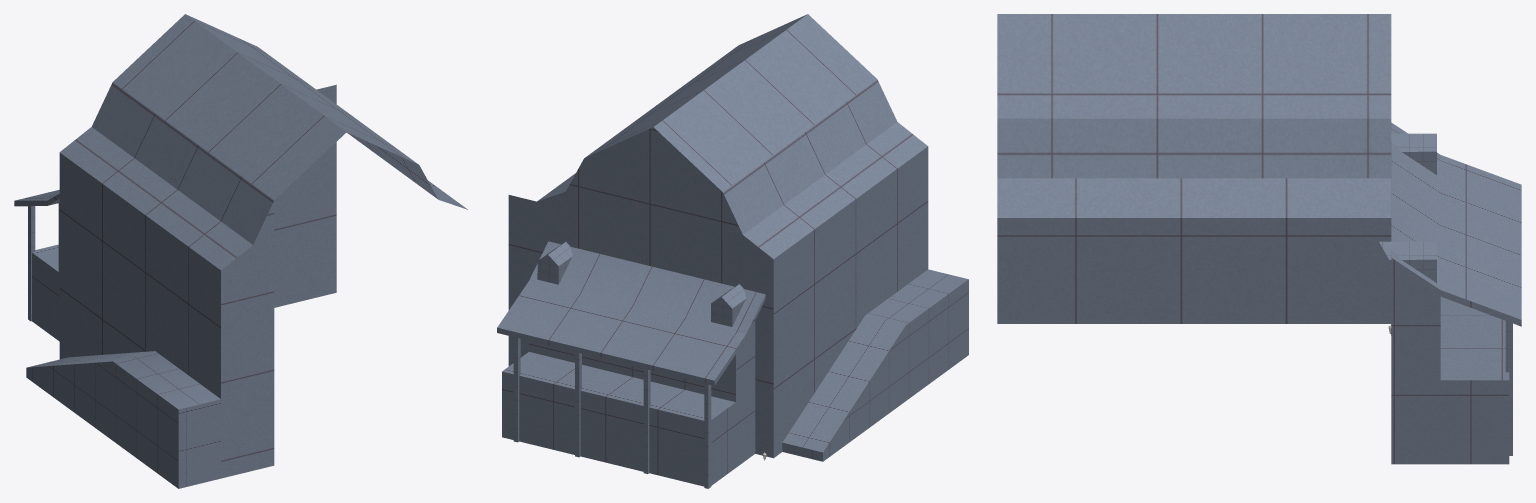
The model's file is Mansion01.fbx.
3 renders of one model, left to right at view 1: azimuth 30°, elevation 25°; view 2: azimuth 150°, elevation 25°; view 3: azimuth 270°, elevation 25°, orthographic. The views are drawn at different scales.
Parts seen in each view (by area): view 1: Mansion01; view 2: Mansion01; view 3: Mansion01.
Boxes of the visible parts, x1,y1,x2,y2 form: Mansion01: [14, 14, 467, 488]; Mansion01: [497, 14, 968, 488]; Mansion01: [997, 14, 1521, 464].
Bounding box in the file's own units: 34.12 × 32.71 × 39.79.
